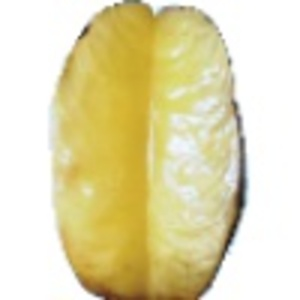carambola: (49, 1, 251, 300)
